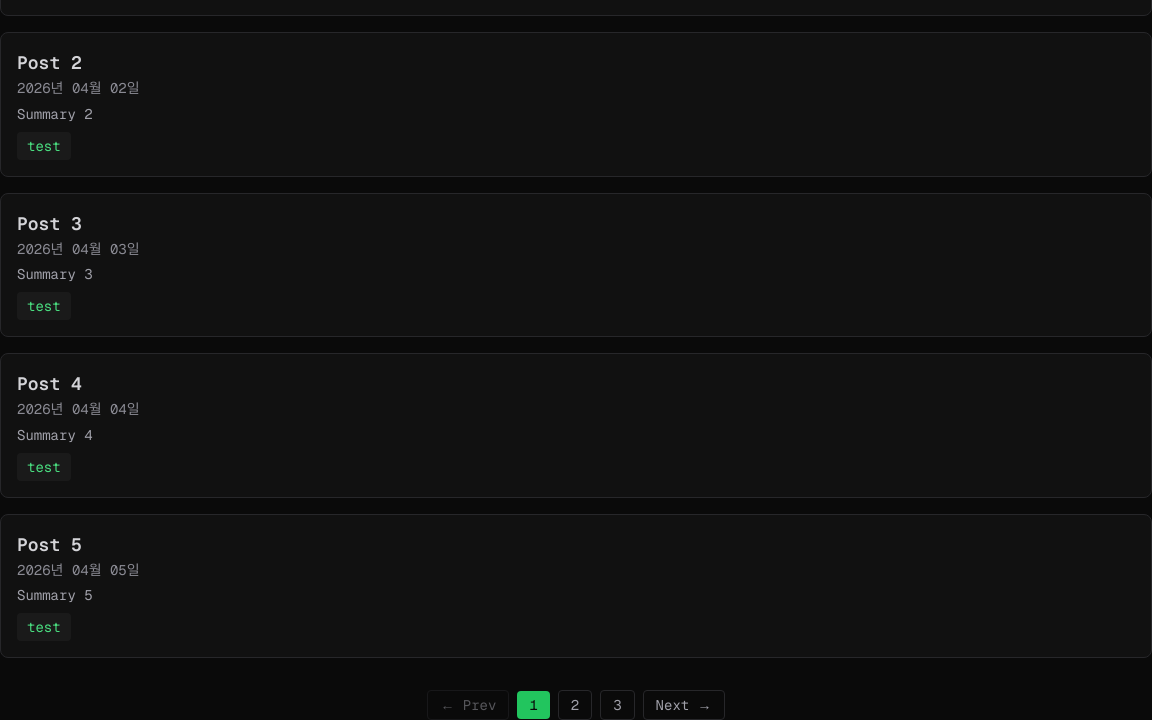
Test: PostList › navigates to previous page
(page scrolled)
Click the button "Next →" at (684, 705), box [643,690,725,719]
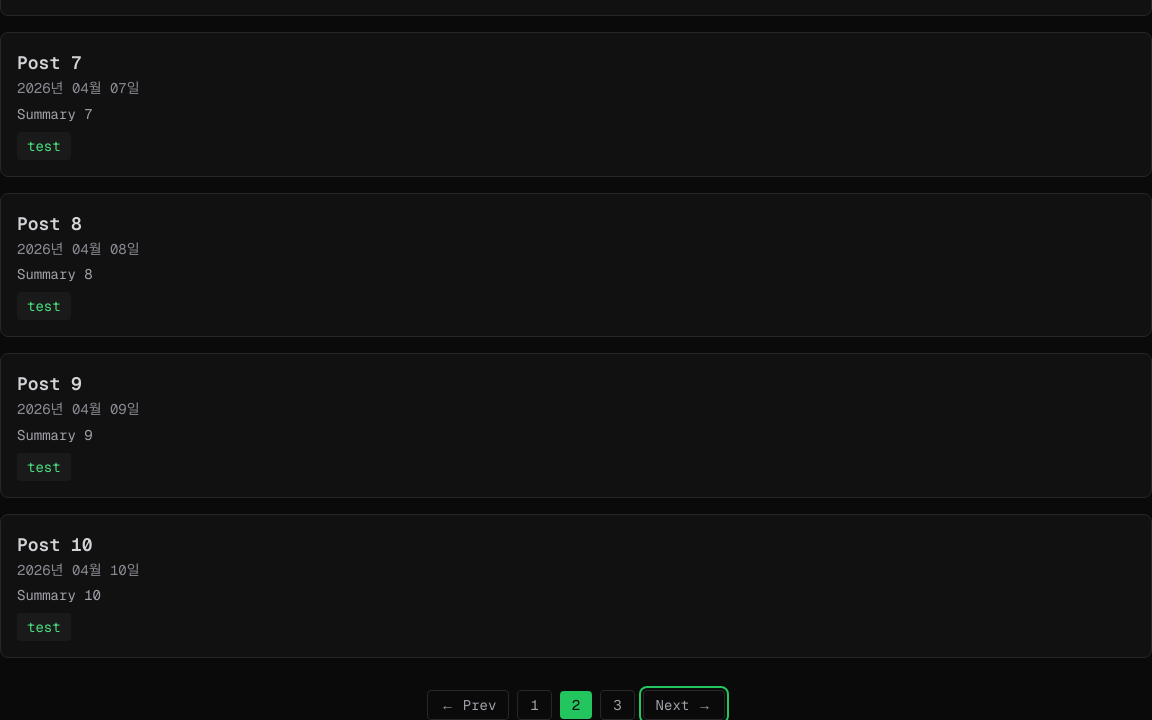
Click the button "← Prev" at (468, 705), box [427,690,509,719]
(page scrolled)
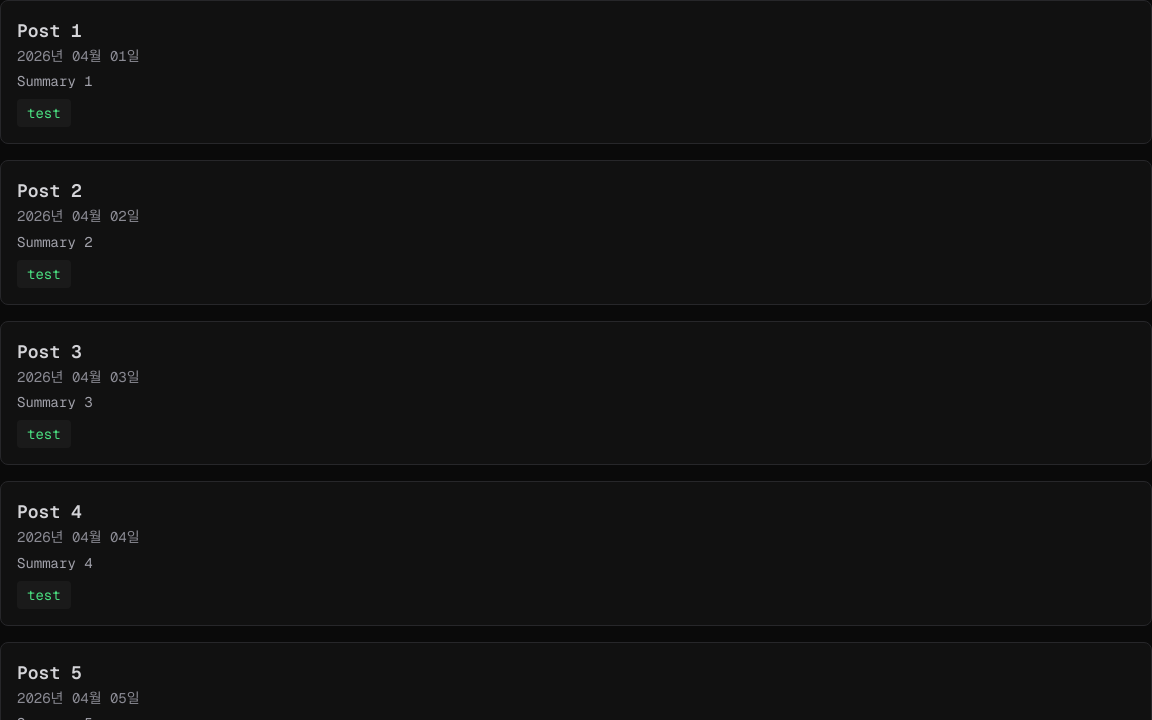
Expected: the text "Post 1" is shown, [17,19,82,42]
